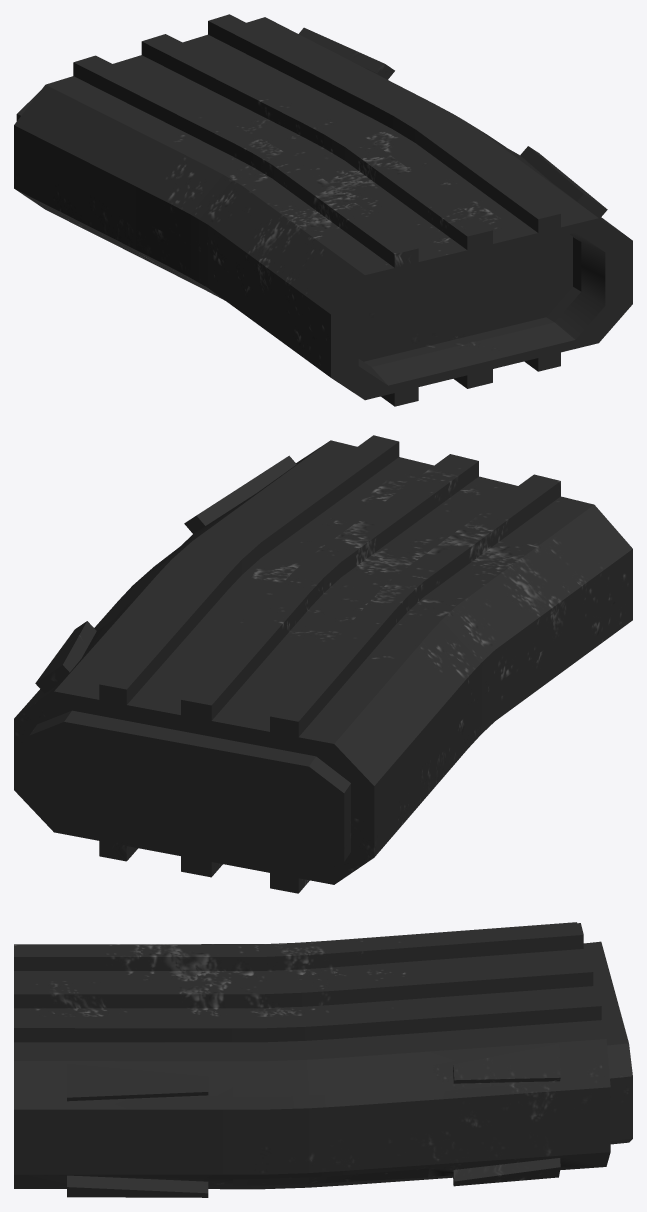
Rendered from ArMag.fbx.
3 views of the same model, one above another, from view 1: azimuth 30°, elevation 25°; view 2: azimuth 150°, elevation 25°; view 3: azimuth 270°, elevation 25° (orthographic). The views are drawn at different scales.
Parts seen in each view (by area): view 1: Mag; view 2: Mag; view 3: Mag.
Part boxes in pixels (box(x1,y1,x2,y2)): Mag: box(14, 14, 632, 406); Mag: box(14, 435, 632, 893); Mag: box(14, 922, 632, 1197).
Size of the model in its own units: 16.39 by 6.88 by 24.75.
